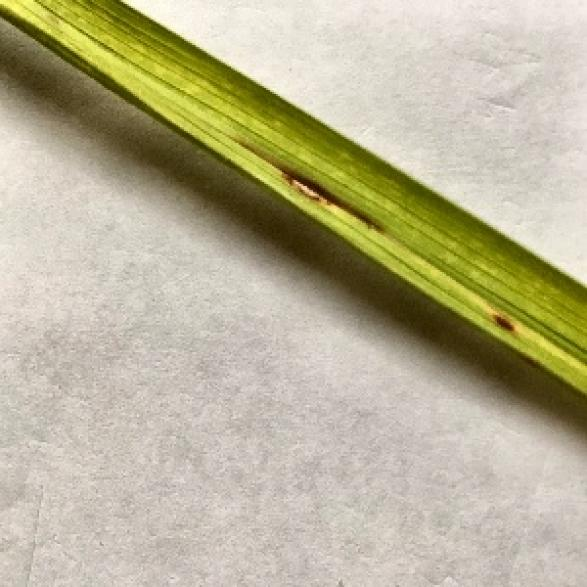Leaf_smut: (225, 125, 405, 239), (481, 296, 540, 332)
